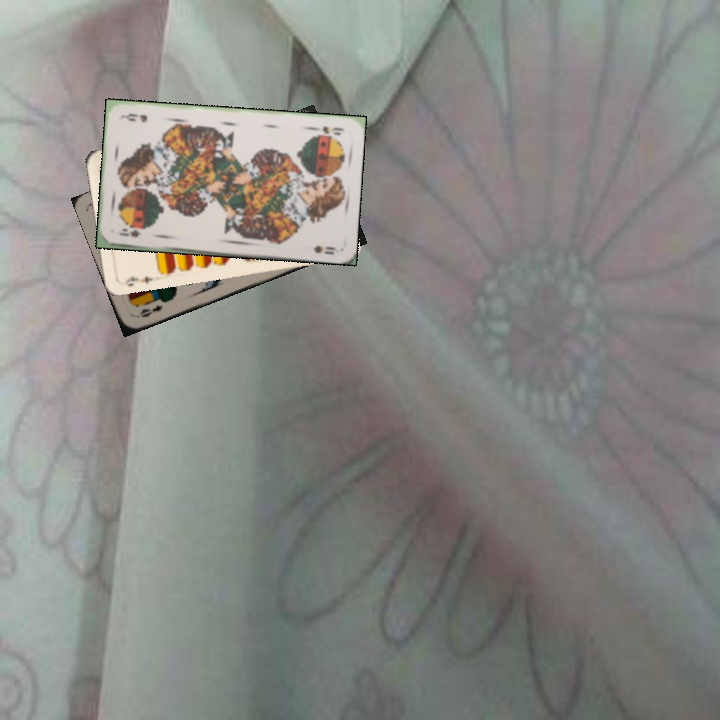E9: (120, 272, 156, 289)
EO: (135, 301, 165, 320)
SO: (308, 122, 346, 138), (115, 225, 143, 239)
